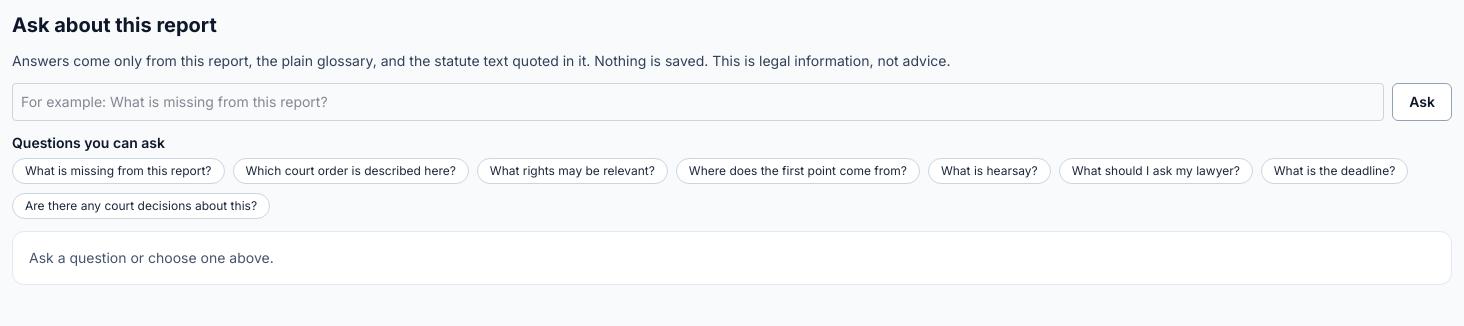
Scenario: EducationalQa › answers a typed question and announces the answer politely
In the field named "Your question": (698, 102) [12,83,1384,121], type "What is hearsay?"
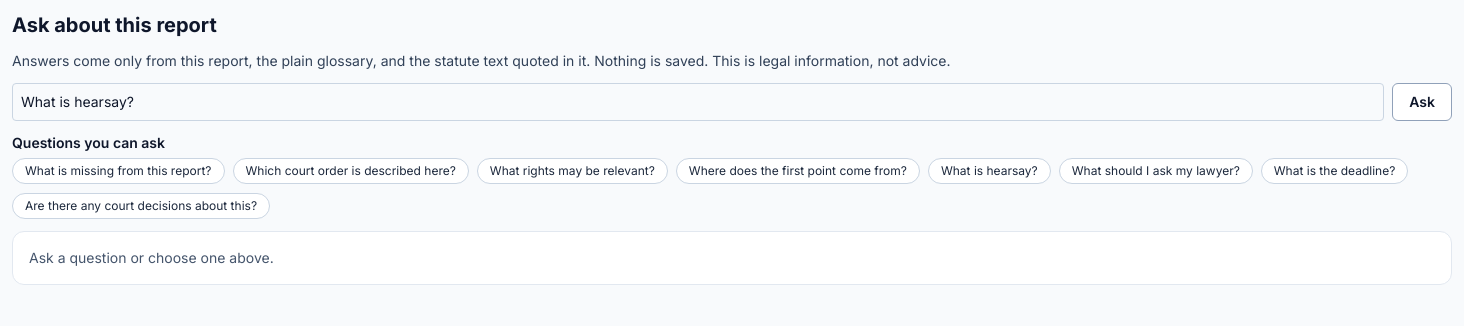
Submit the form named "Your question", box [12,83,1452,121]
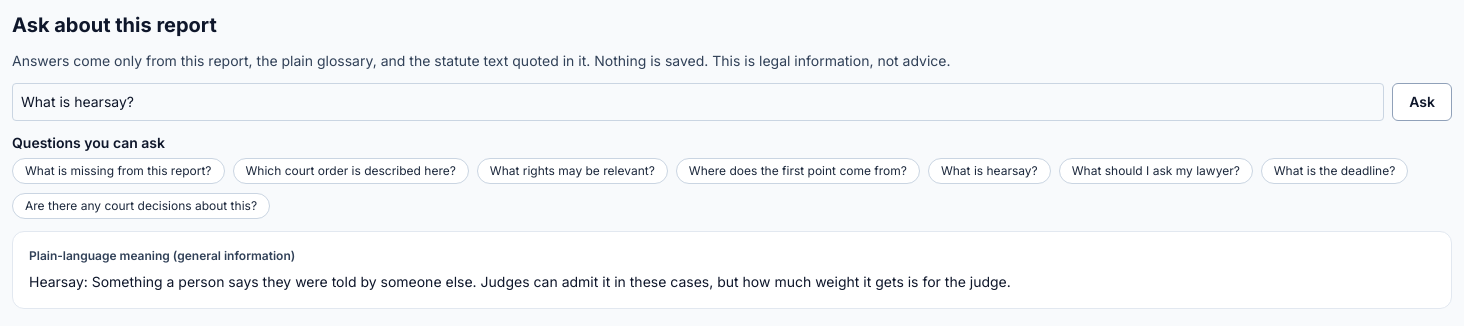
Expected: the message shows "Plain-language meaning", [29,248,295,263]
